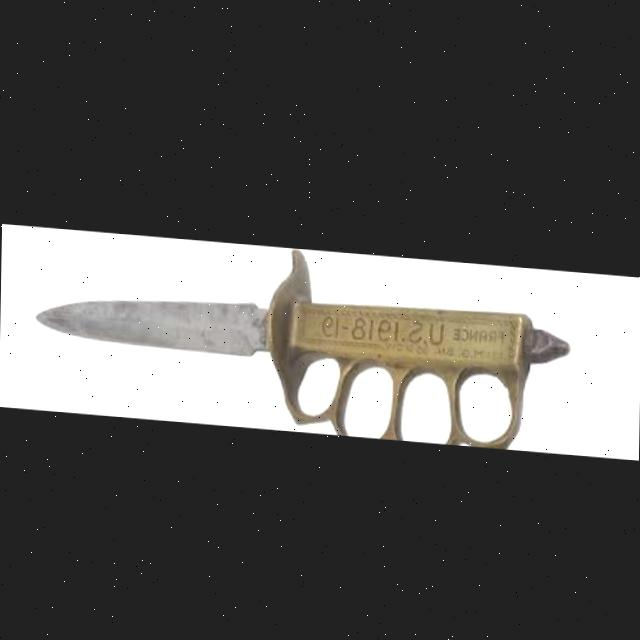Knife: (35, 225, 573, 446)
